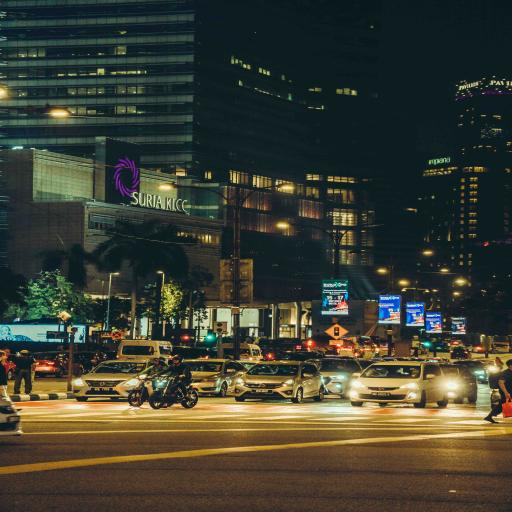bike: (149, 377, 198, 409), (128, 377, 154, 406)
car: (350, 362, 447, 407), (235, 361, 324, 403), (73, 360, 151, 401), (185, 359, 246, 397), (310, 358, 362, 396), (440, 364, 477, 403), (118, 340, 174, 361), (33, 352, 68, 378), (0, 397, 22, 436), (454, 360, 490, 382), (74, 352, 106, 371), (173, 347, 217, 359), (273, 351, 324, 361), (240, 343, 263, 360), (481, 359, 500, 373), (4, 358, 15, 380), (451, 347, 471, 359), (238, 360, 258, 369), (499, 354, 511, 369), (359, 360, 378, 369), (491, 389, 500, 407), (424, 357, 450, 363), (105, 351, 117, 360)
